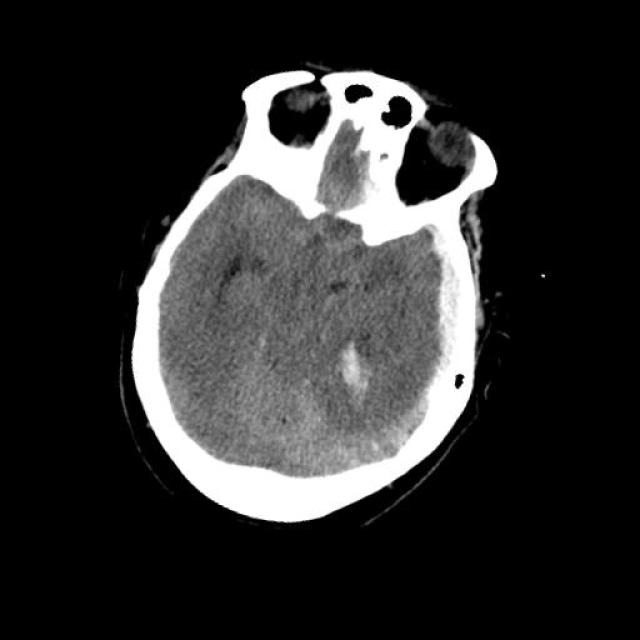Intraparenchymal: (304, 329, 386, 413)
Subdural: (354, 219, 505, 491)
